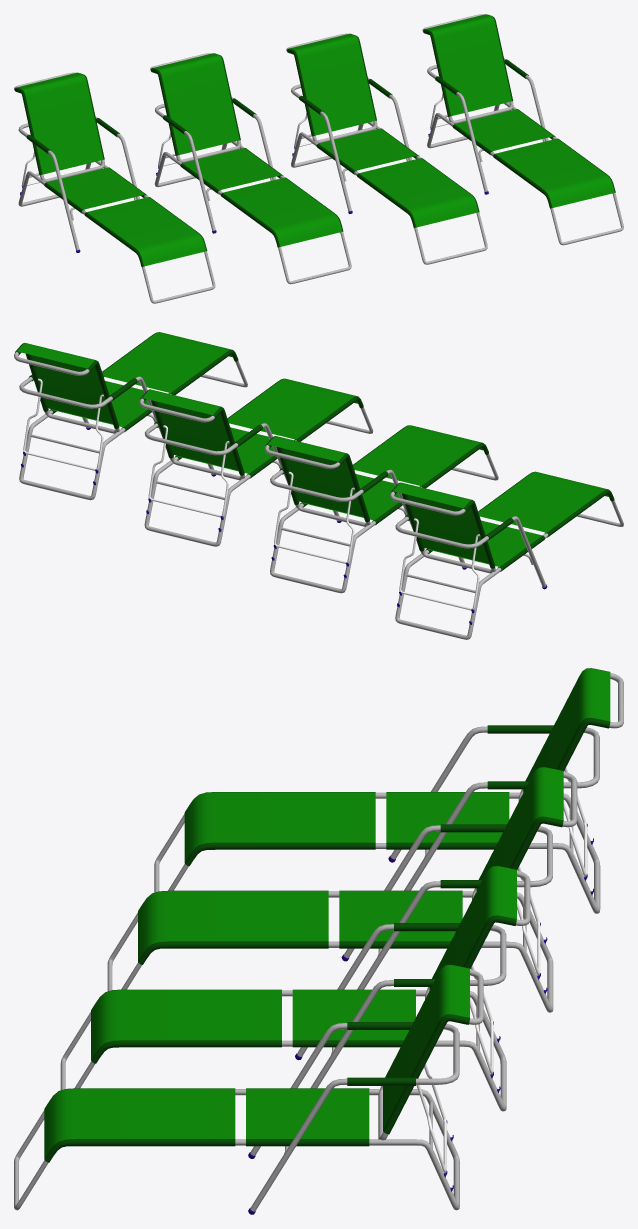
File: poolChairs.dae
The picture shows the model from 3 angles, top to bottom: view 1: azimuth 30°, elevation 25°; view 2: azimuth 150°, elevation 25°; view 3: azimuth 270°, elevation 25°; orthographic projection. The views are drawn at different scales.
Parts seen in each view (by area): view 1: poolChair_Green, poolChair_Blue, poolChair_Yellow, poolChair_Red, poolChairRest.003, poolChairRest_Green, poolChairRest.002, poolChairRest.001; view 2: poolChair_Green, poolChair_Yellow, poolChair_Blue, poolChair_Red, poolChairRest.001, poolChairRest_Green, poolChairRest.002, poolChairRest.003, poolChairSupport, poolChairSupport.002, poolChairSupport.003, poolChairSupport.001; view 3: poolChair_Yellow, poolChair_Red, poolChair_Blue, poolChair_Green, poolChairRest.003, poolChairRest.002, poolChairRest.001, poolChairRest_Green.
Part boxes in pixels (left/top/right/bottom): poolChair_Green: left=18, top=116, right=215, bottom=303; poolChair_Blue: left=291, top=77, right=487, bottom=264; poolChair_Yellow: left=427, top=58, right=623, bottom=245; poolChair_Red: left=154, top=97, right=351, bottom=284; poolChairRest.003: left=422, top=14, right=513, bottom=123; poolChairRest_Green: left=14, top=72, right=104, bottom=182; poolChairRest.002: left=286, top=33, right=377, bottom=143; poolChairRest.001: left=150, top=53, right=241, bottom=162; poolChair_Green: left=395, top=471, right=623, bottom=639; poolChair_Yellow: left=19, top=332, right=247, bottom=500; poolChair_Blue: left=144, top=378, right=373, bottom=546; poolChair_Red: left=270, top=425, right=498, bottom=593; poolChairRest.001: left=264, top=436, right=370, bottom=526; poolChairRest_Green: left=390, top=482, right=495, bottom=573; poolChairRest.002: left=139, top=389, right=244, bottom=480; poolChairRest.003: left=14, top=343, right=119, bottom=433; poolChairSupport: left=399, top=518, right=480, bottom=610; poolChairSupport.002: left=148, top=425, right=229, bottom=517; poolChairSupport.003: left=23, top=378, right=104, bottom=470; poolChairSupport.001: left=274, top=471, right=354, bottom=563; poolChair_Yellow: left=14, top=1022, right=459, bottom=1214; poolChair_Red: left=107, top=824, right=553, bottom=1012; poolChair_Blue: left=60, top=923, right=506, bottom=1111; poolChair_Green: left=154, top=725, right=600, bottom=913; poolChairRest.003: left=378, top=964, right=483, bottom=1140; poolChairRest.002: left=425, top=865, right=530, bottom=999; poolChairRest.001: left=472, top=767, right=577, bottom=899; poolChairRest_Green: left=518, top=668, right=623, bottom=801.
Bounding box in the file's own units: 3.6 × 2.61 × 0.9303.
